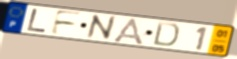1: (194, 26, 209, 51)
A: (110, 17, 146, 47)
D: (151, 21, 181, 48)
F: (49, 9, 84, 36)
L: (25, 8, 49, 34)
N: (85, 13, 117, 41)
